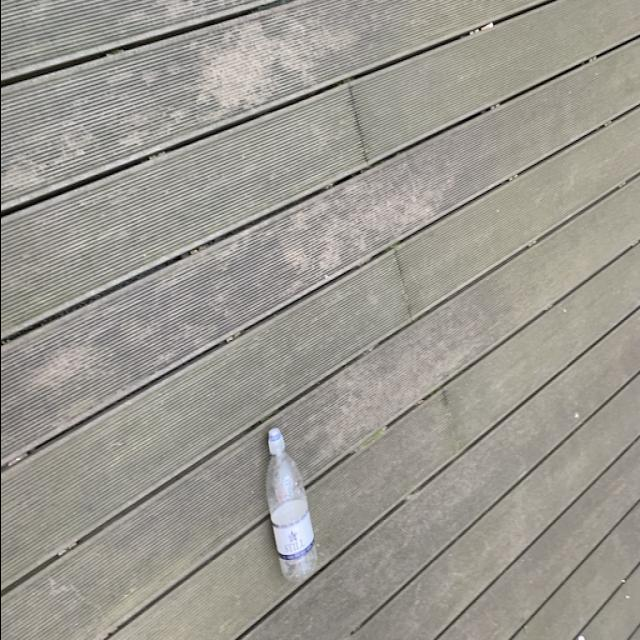PET: (254, 415, 326, 591)
